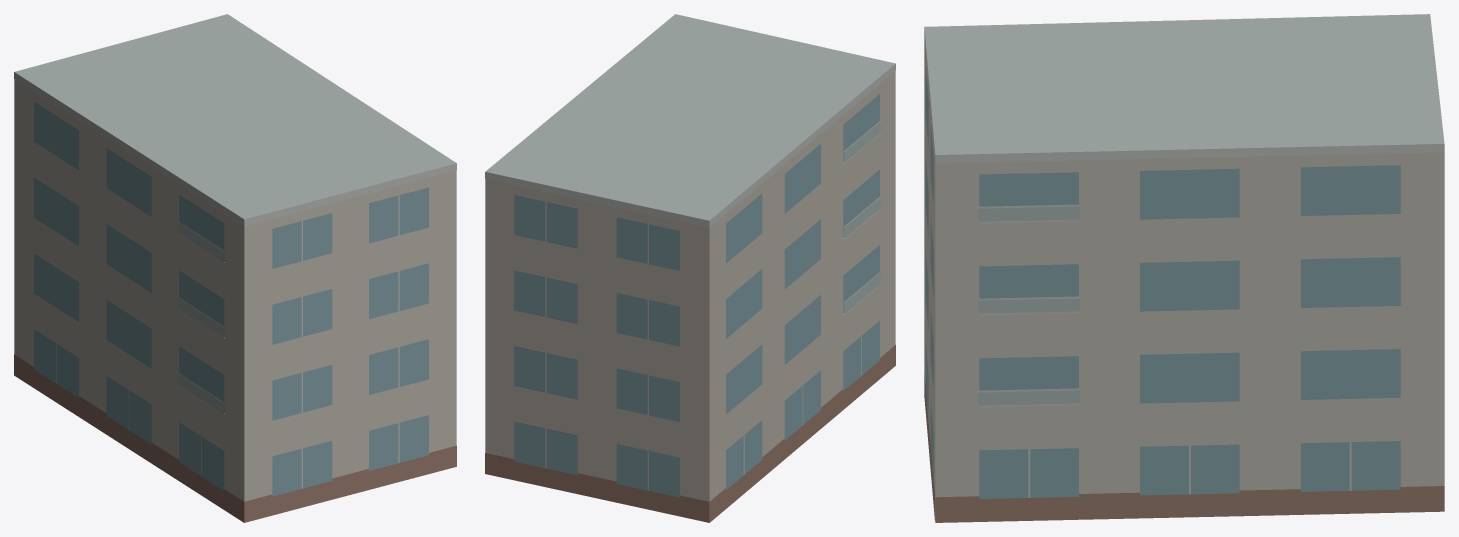
Rendered from survey-upis-32746378.glb.
3 views of the same model, side by side, from view 1: azimuth 30°, elevation 25°; view 2: azimuth 150°, elevation 25°; view 3: azimuth 270°, elevation 25° (orthographic). The views are drawn at different scales.
Visible parts, largest first — view 1: survey-upis-32746378.tmp; view 2: survey-upis-32746378.tmp; view 3: survey-upis-32746378.tmp.
Part boxes in pixels (x1,y1,x2,y2): survey-upis-32746378.tmp: [14, 14, 456, 522]; survey-upis-32746378.tmp: [485, 14, 895, 522]; survey-upis-32746378.tmp: [924, 14, 1444, 522].
Bounding box in the file's own units: 8.65 × 10.5 × 13.47.
